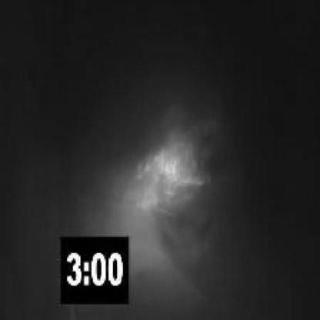Fire: (135, 136, 209, 192)
